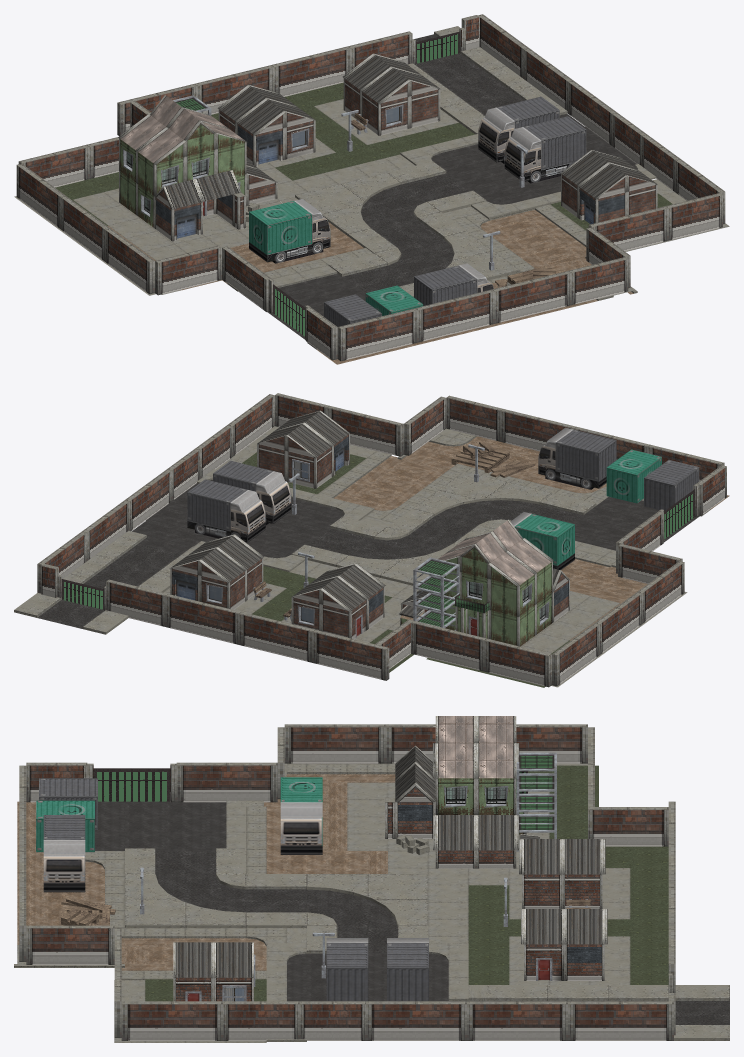
File: road-dirt-corner-outer (3).fbx
3 renders of one model, top to bottom at view 1: azimuth 30°, elevation 25°; view 2: azimuth 150°, elevation 25°; view 3: azimuth 270°, elevation 25°, orthographic. The views are drawn at different scales.
Visible parts, largest first — view 1: road_dirt_corner_outer__3_; view 2: road_dirt_corner_outer__3_; view 3: road_dirt_corner_outer__3_.
Boxes of the visible parts, x1,y1,x2,y2 form: road_dirt_corner_outer__3_: (14,14,729,364); road_dirt_corner_outer__3_: (14,393,729,687); road_dirt_corner_outer__3_: (14,716,729,1042).
Bounding box in the file's own units: 3301 × 610 × 3543.
90 materials, 90 textured.
